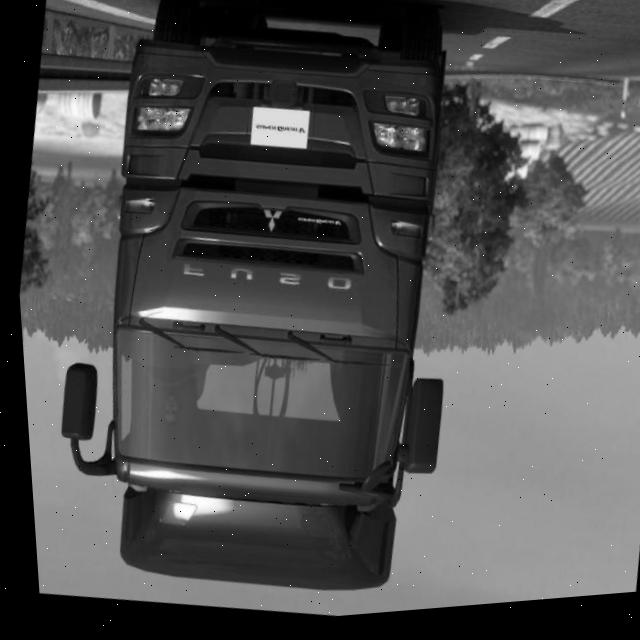truck: (9, 1, 507, 634)
